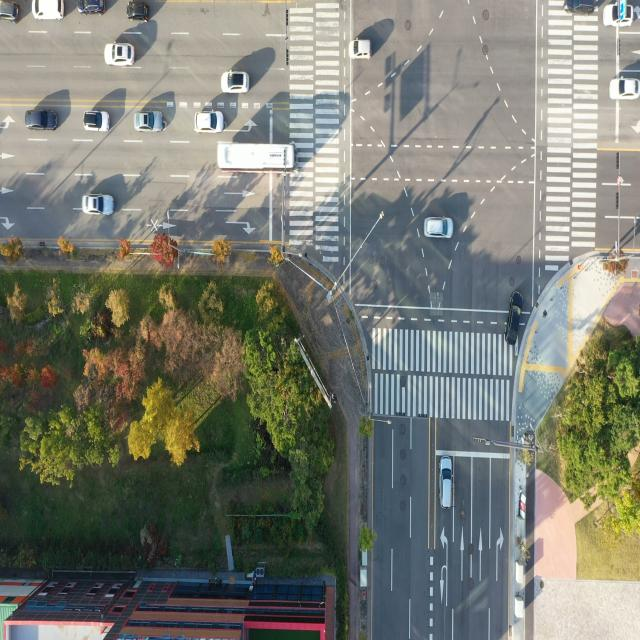car: (195, 106, 227, 138), (608, 76, 640, 106), (503, 292, 523, 340), (604, 1, 636, 27), (441, 455, 455, 511), (25, 109, 57, 133), (222, 69, 252, 94), (137, 107, 164, 134), (33, 0, 66, 22), (84, 195, 114, 218), (107, 42, 136, 65), (425, 217, 454, 239), (348, 38, 372, 62), (85, 110, 110, 132), (568, 1, 600, 18), (128, 0, 152, 22), (78, 0, 108, 16), (1, 0, 19, 22)
large_bus: (216, 142, 298, 172)
